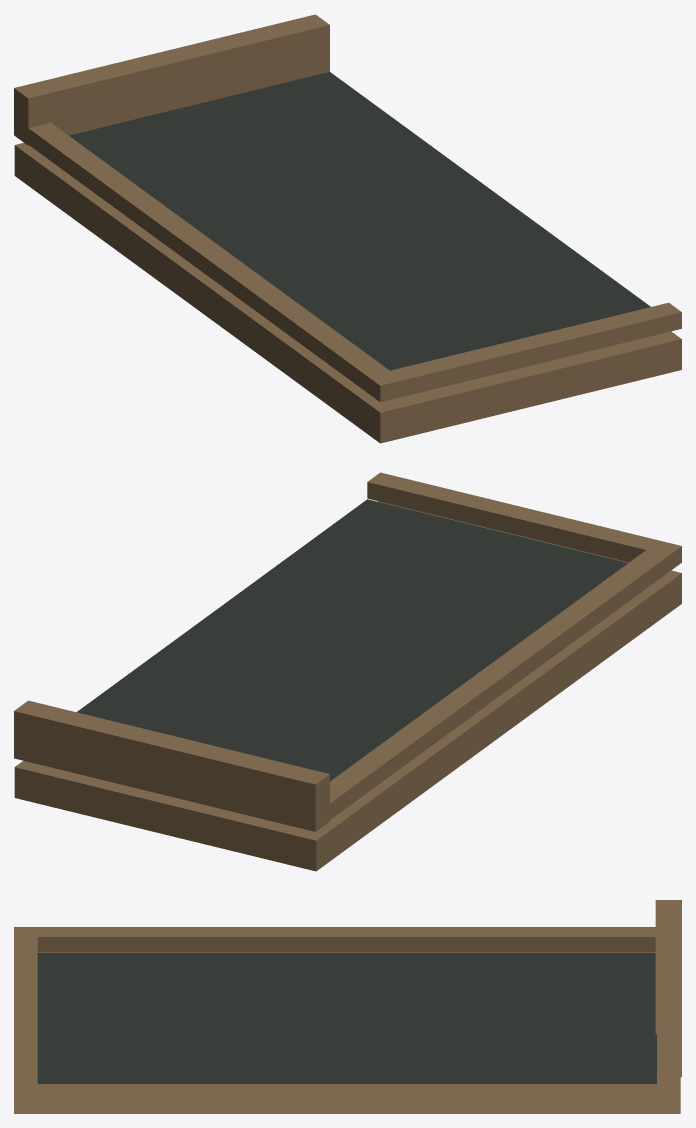
The model's file is section-3.obj.
3 views of the same model, one above another, from view 1: azimuth 30°, elevation 25°; view 2: azimuth 150°, elevation 25°; view 3: azimuth 270°, elevation 25° (orthographic). The views are drawn at different scales.
Bounding box in the file's own units: 0.6132 × 0.1697 × 1.29.
1 material, 1 textured.
